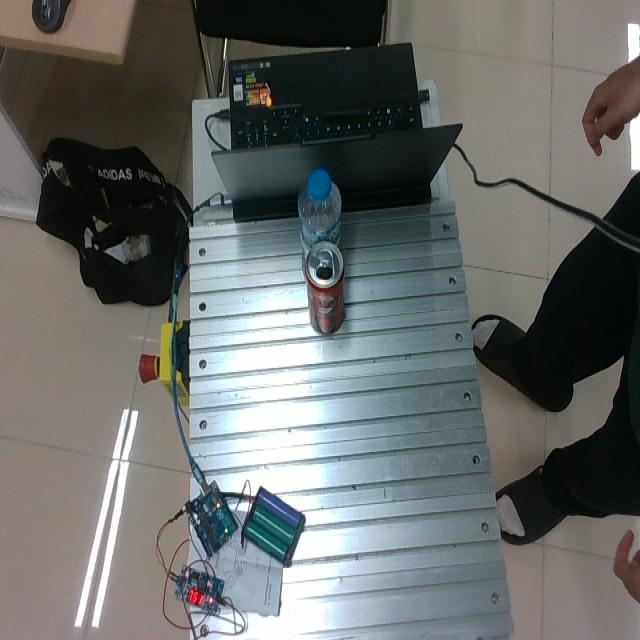coca: (303, 240, 345, 335)
lavie: (297, 167, 342, 268)
